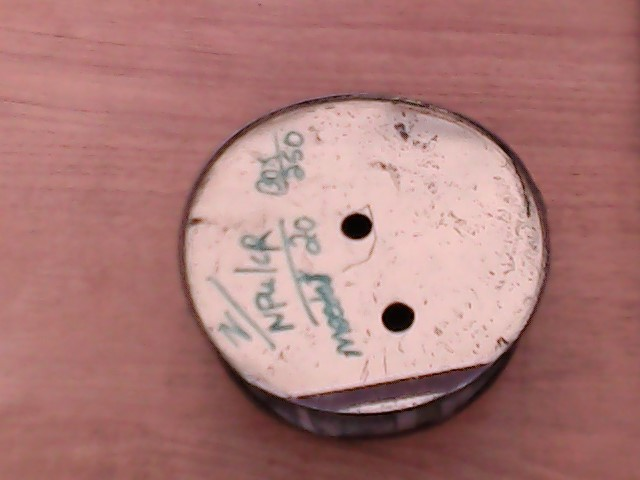Metal: (152, 103, 556, 446)
